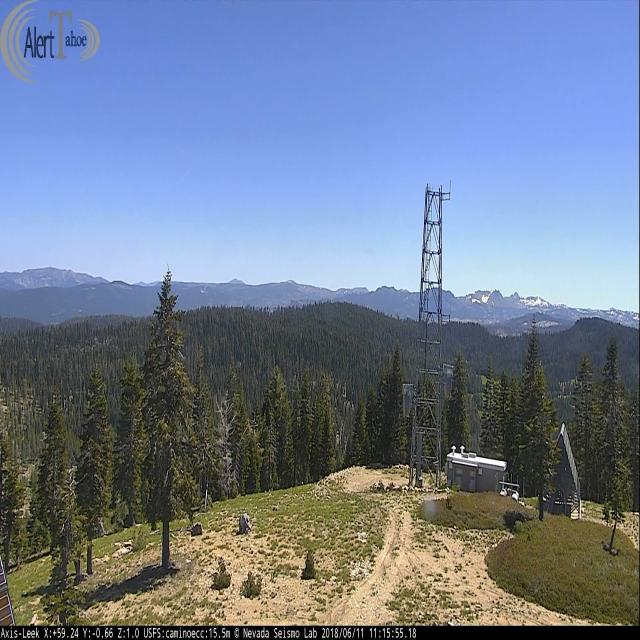smoke: (200, 284, 206, 294)
